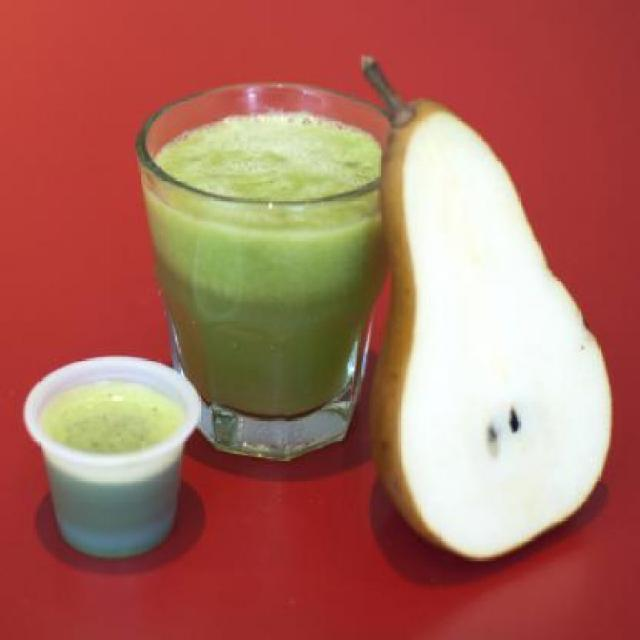Pear: (361, 54, 617, 560)
